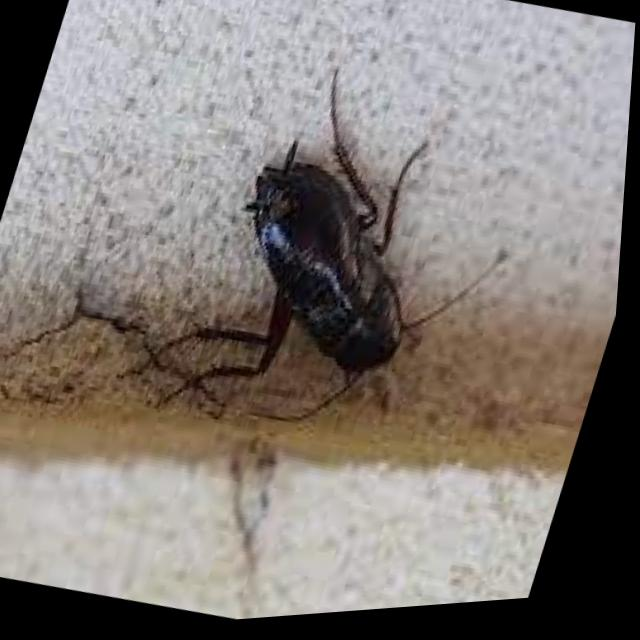Cockroach: (98, 21, 575, 513)
